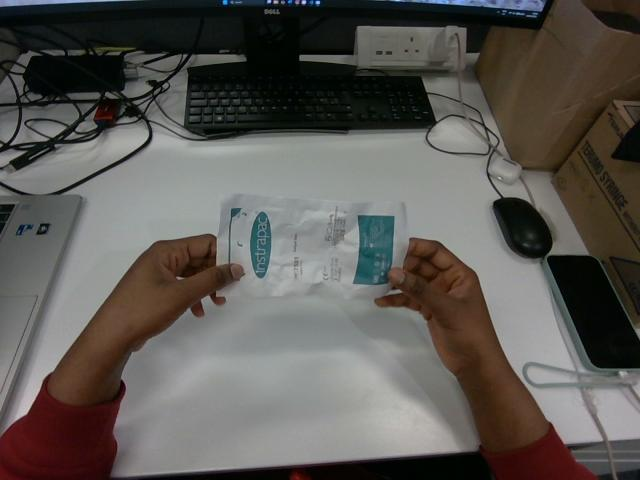gallipot: (217, 194, 408, 297)
